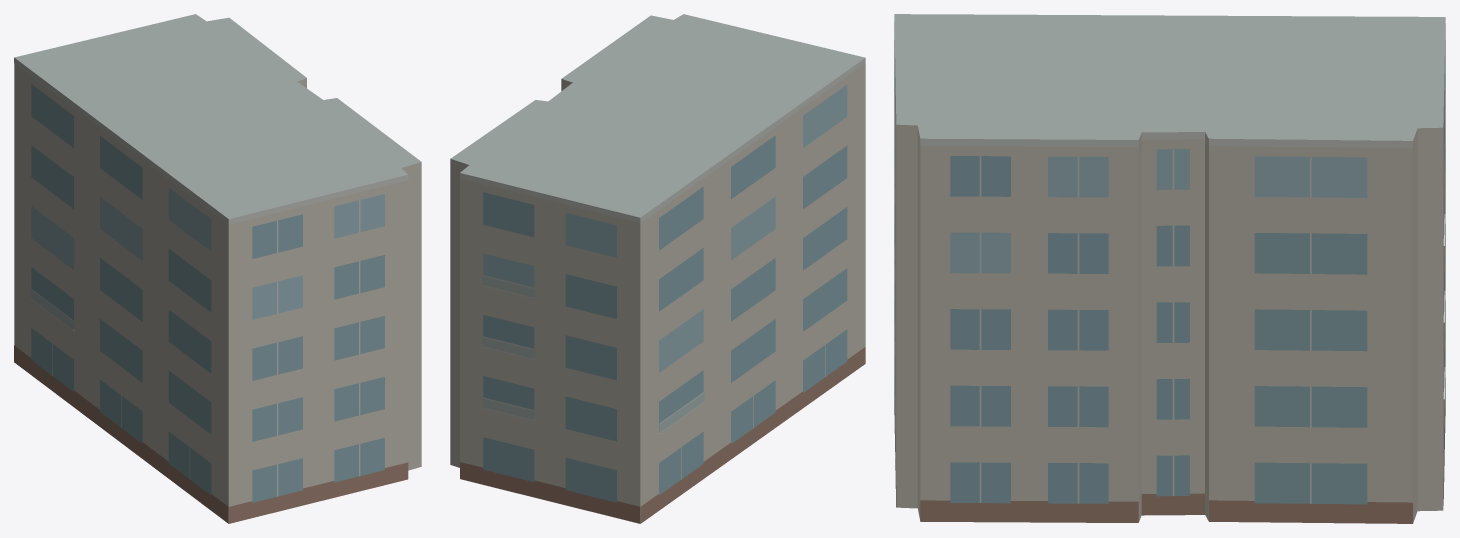
File: survey-upis-32962193.glb
The picture shows the model from 3 angles, left to right: view 1: azimuth 30°, elevation 25°; view 2: azimuth 150°, elevation 25°; view 3: azimuth 270°, elevation 25°; orthographic projection. The views are drawn at different scales.
Visible parts, largest first — view 1: survey-upis-32962193.tmp; view 2: survey-upis-32962193.tmp; view 3: survey-upis-32962193.tmp.
Part boxes in pixels (bbox=[...]): survey-upis-32962193.tmp: bbox=[14, 14, 421, 523]; survey-upis-32962193.tmp: bbox=[450, 14, 865, 523]; survey-upis-32962193.tmp: bbox=[894, 14, 1445, 523].
Bounding box in the file's own units: 9.32 × 13.1 × 17.1.
